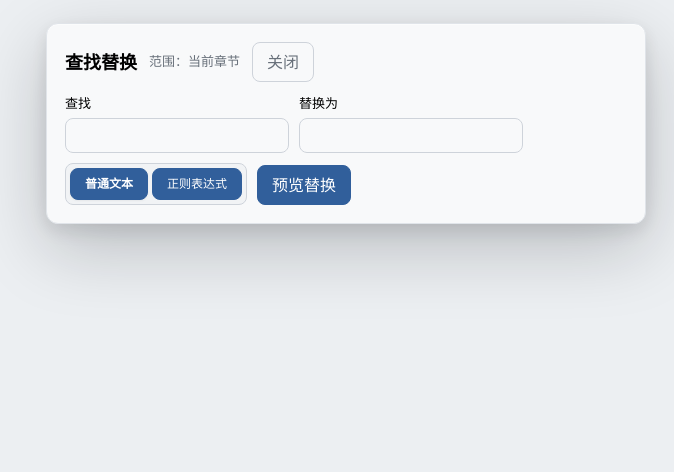
Scenario: ReplacePanel 逐命中排除与替换计划 › 按场景全选/全不选
The width and height of the screenshot is (674, 472).
Type "旧" into the field with test id "replace-find". click: (177, 135)
box: [65,118,289,153]
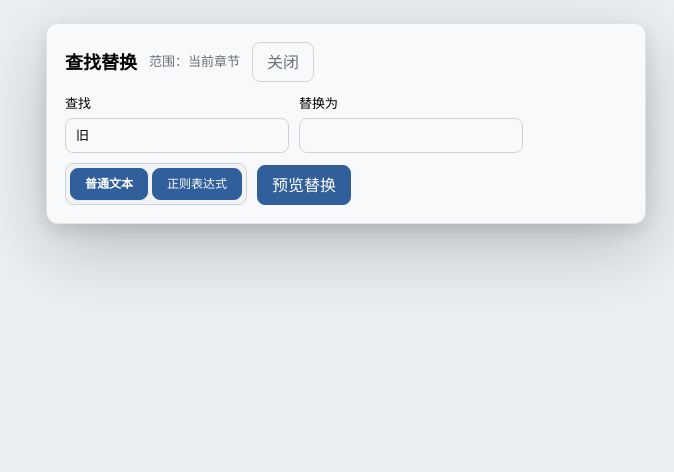
Click the button with test id "replace-preview". click: (304, 185)
box: [257,165,351,205]
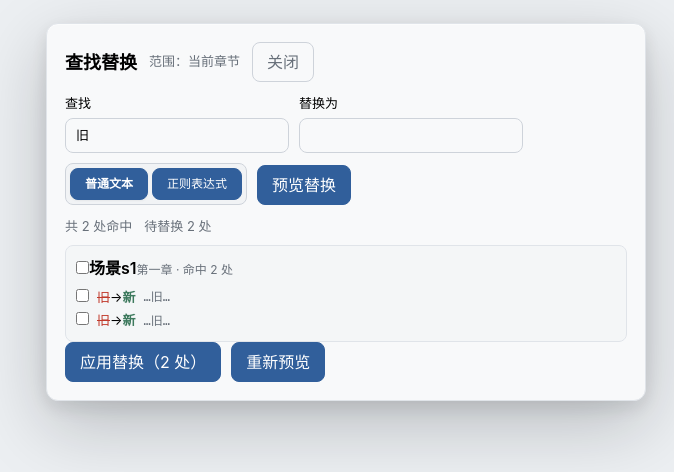
Expected: the element with test id "replace-plan-view" is shown, [65,217,627,342]
Click the checkbox named "排除场景 场景s1". click: (82, 267)
box: [76,260,89,274]
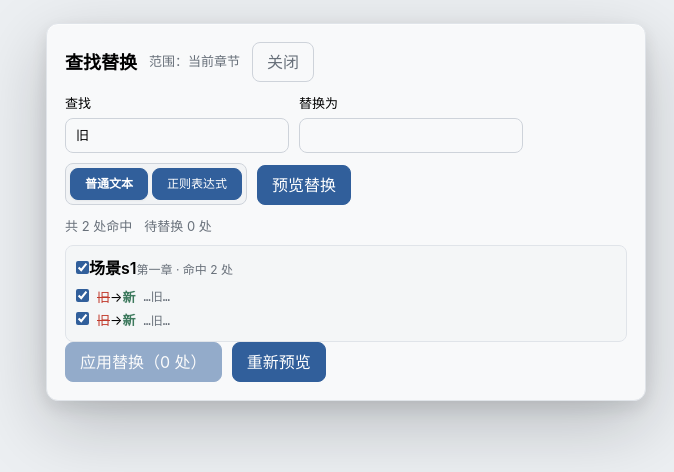
Expected: the button with test id "replace-apply" shows "（0 处）", [65,342,222,382]
Expected: the button with test id "replace-apply" is disabled, [65,342,222,382]
全不选：恢复为 2 处且可用
Click the checkbox named "排除场景 场景s1". click: (82, 267)
box: [76,260,89,274]
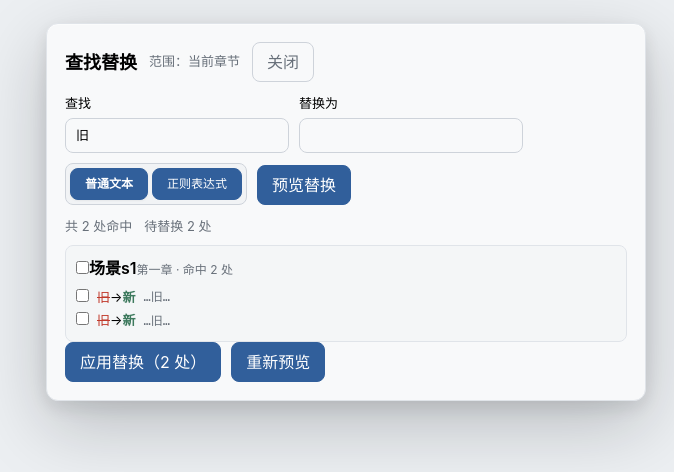
Expected: the button with test id "replace-apply" shows "（2 处）", [65,342,221,382]
Expected: the button with test id "replace-apply" is enabled, [65,342,221,382]
